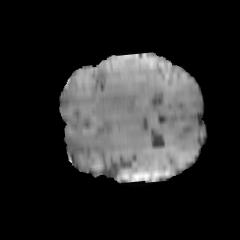glioma: (92, 55, 167, 114)
